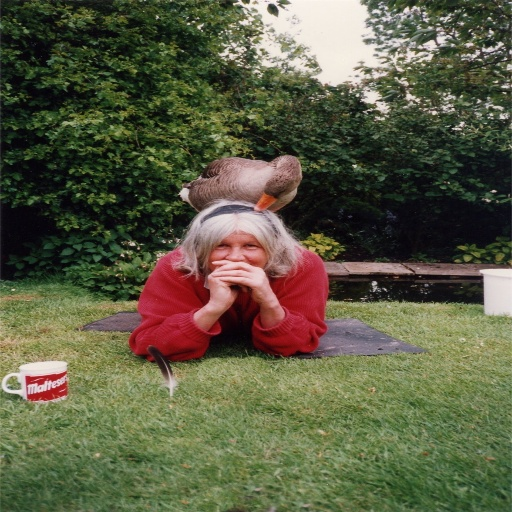hand: (207, 257, 278, 308), (206, 259, 245, 301)
